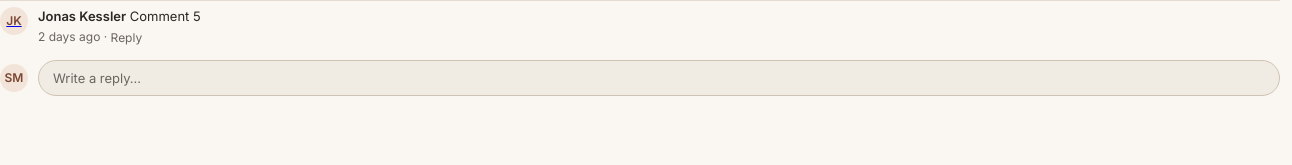
Scenario: CommentThread › shows a new comment at once, bumps the count, and clears the box
The width and height of the screenshot is (1292, 165).
Expected: the text "Comment 5" is shown, [130, 8, 201, 24]
In the field named "Write a comment": (659, 78) [38, 60, 1280, 96], type "Great news"
Then press Enter
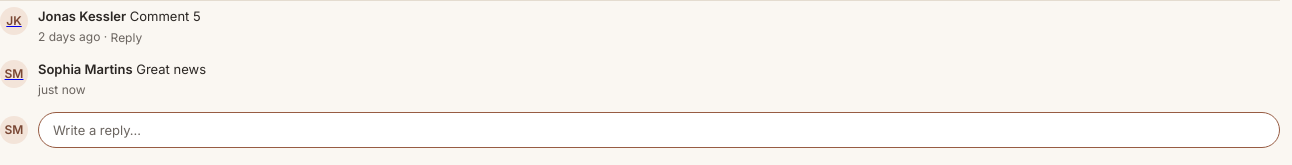
Expected: the field named "Write a comment" is empty, [38, 112, 1280, 148]
Expected: the text "Great news" is shown, [136, 61, 206, 77]
